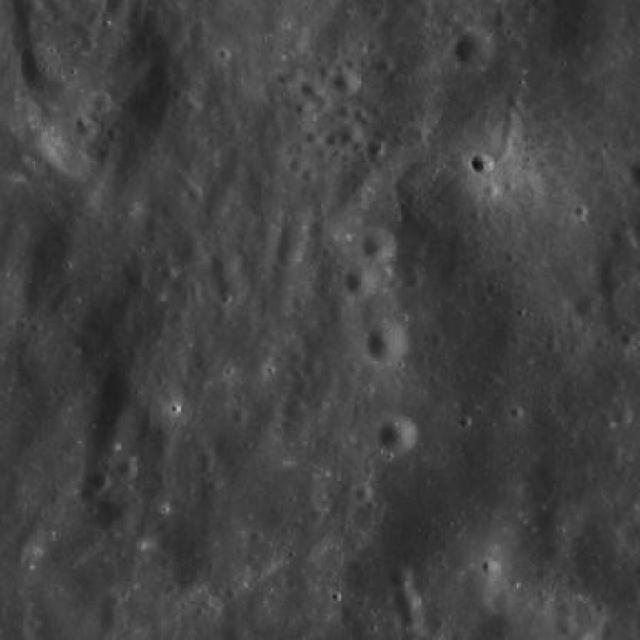crater: (82, 161, 406, 482), (85, 294, 381, 588), (366, 322, 408, 366), (377, 416, 417, 456), (456, 28, 496, 68), (361, 226, 397, 262), (348, 264, 380, 298), (210, 250, 242, 282), (277, 233, 308, 264), (216, 272, 247, 302), (575, 293, 603, 321), (610, 220, 638, 248), (394, 587, 422, 615), (390, 564, 416, 590), (178, 232, 204, 258), (336, 72, 361, 96), (104, 0, 132, 20), (472, 152, 496, 174), (116, 458, 139, 480), (90, 471, 112, 494), (372, 54, 394, 76), (402, 609, 424, 631), (558, 617, 578, 637), (614, 407, 634, 427), (94, 94, 114, 114), (342, 126, 362, 146), (286, 152, 306, 172), (230, 405, 250, 423), (302, 79, 320, 98), (482, 558, 500, 576), (354, 484, 372, 502), (368, 140, 386, 158), (406, 272, 422, 290), (28, 0, 44, 17)
